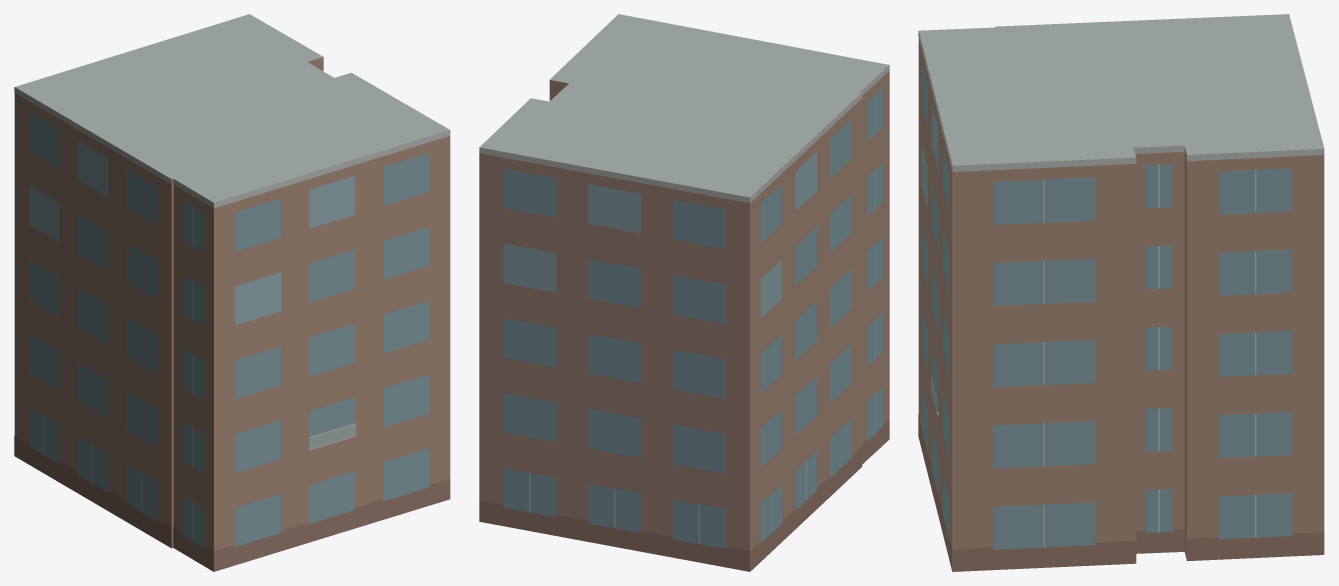
File: survey-upis-32653071.glb
3 views of the same model, side by side, from view 1: azimuth 30°, elevation 25°; view 2: azimuth 150°, elevation 25°; view 3: azimuth 270°, elevation 25° (orthographic). The views are drawn at different scales.
Visible parts, largest first — view 1: survey-upis-32653071.tmp; view 2: survey-upis-32653071.tmp; view 3: survey-upis-32653071.tmp.
Boxes of the visible parts, x1,y1,x2,y2 form: survey-upis-32653071.tmp: (14,14,450,571); survey-upis-32653071.tmp: (479,14,889,571); survey-upis-32653071.tmp: (918,14,1324,571).
Bounding box in the file's own units: 12.69 × 15.81 × 14.33.
